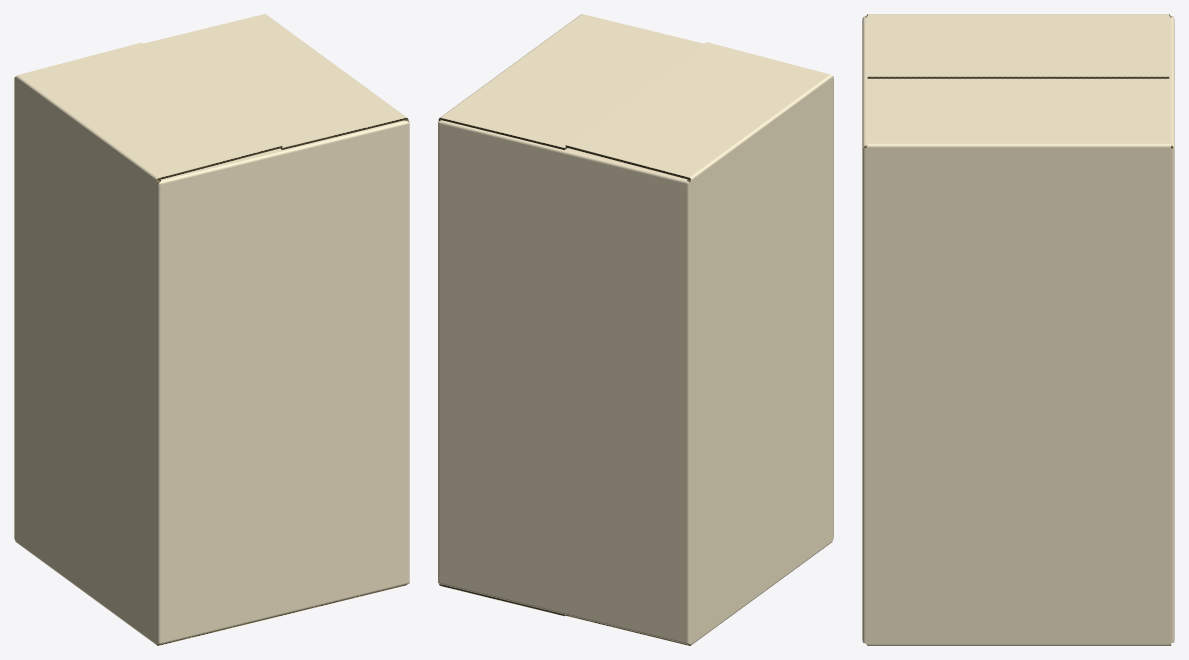
File: 3D GAUN.gltf
3 renders of one model, left to right at view 1: azimuth 30°, elevation 25°; view 2: azimuth 150°, elevation 25°; view 3: azimuth 270°, elevation 25°, orthographic. The views are drawn at different scales.
Parts seen in each view (by area): view 1: TQ_ARD-node; view 2: TQ_ARD-node; view 3: TQ_ARD-node.
Boxes of the visible parts, left/top/right/bottom form: TQ_ARD-node: left=14, top=14, right=409, bottom=645; TQ_ARD-node: left=438, top=14, right=833, bottom=645; TQ_ARD-node: left=862, top=14, right=1174, bottom=645.
Bounding box in the file's own units: 0.3432 × 0.6121 × 0.3432.
3 materials, 1 textured.
